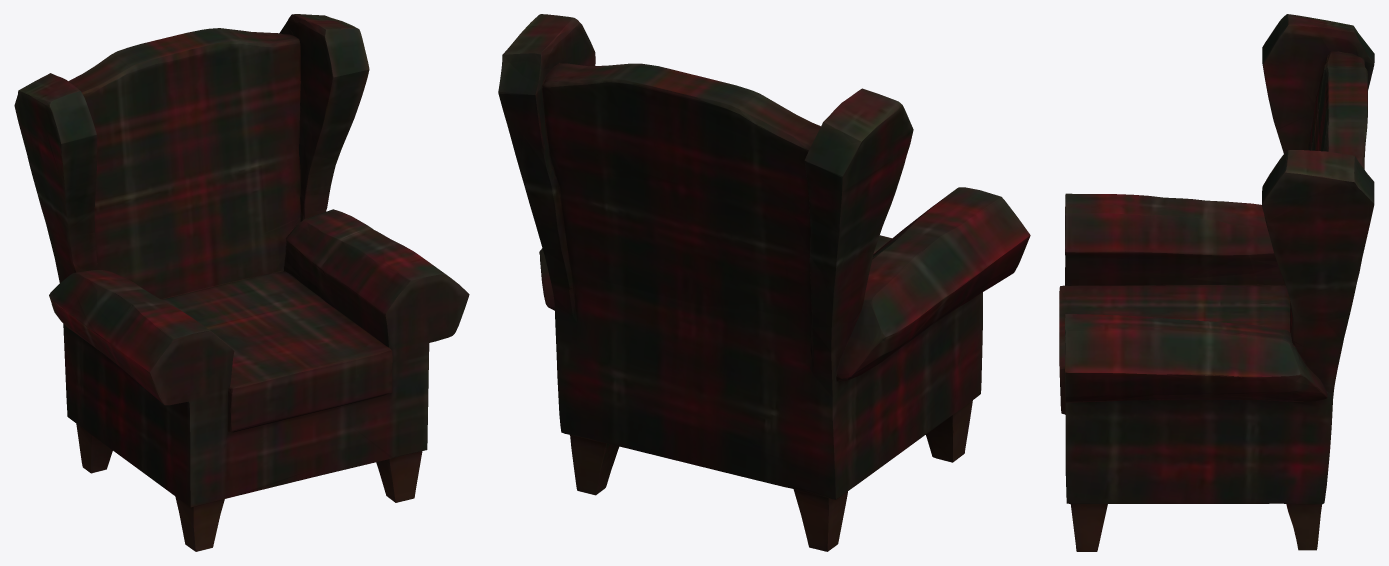
File: armchair.glb
The picture shows the model from 3 angles, left to right: view 1: azimuth 30°, elevation 25°; view 2: azimuth 150°, elevation 25°; view 3: azimuth 270°, elevation 25°; orthographic projection. The views are drawn at different scales.
Parts seen in each view (by area): view 1: geometry_0; view 2: geometry_0; view 3: geometry_0.
Boxes of the visible parts, box(x1,y1,x2,y2) form: geometry_0: box(14, 14, 469, 551); geometry_0: box(498, 14, 1030, 551); geometry_0: box(1059, 14, 1374, 551).
Bounding box in the file's own units: 0.8528 × 0.9968 × 0.6967.
1 material, 1 textured.
